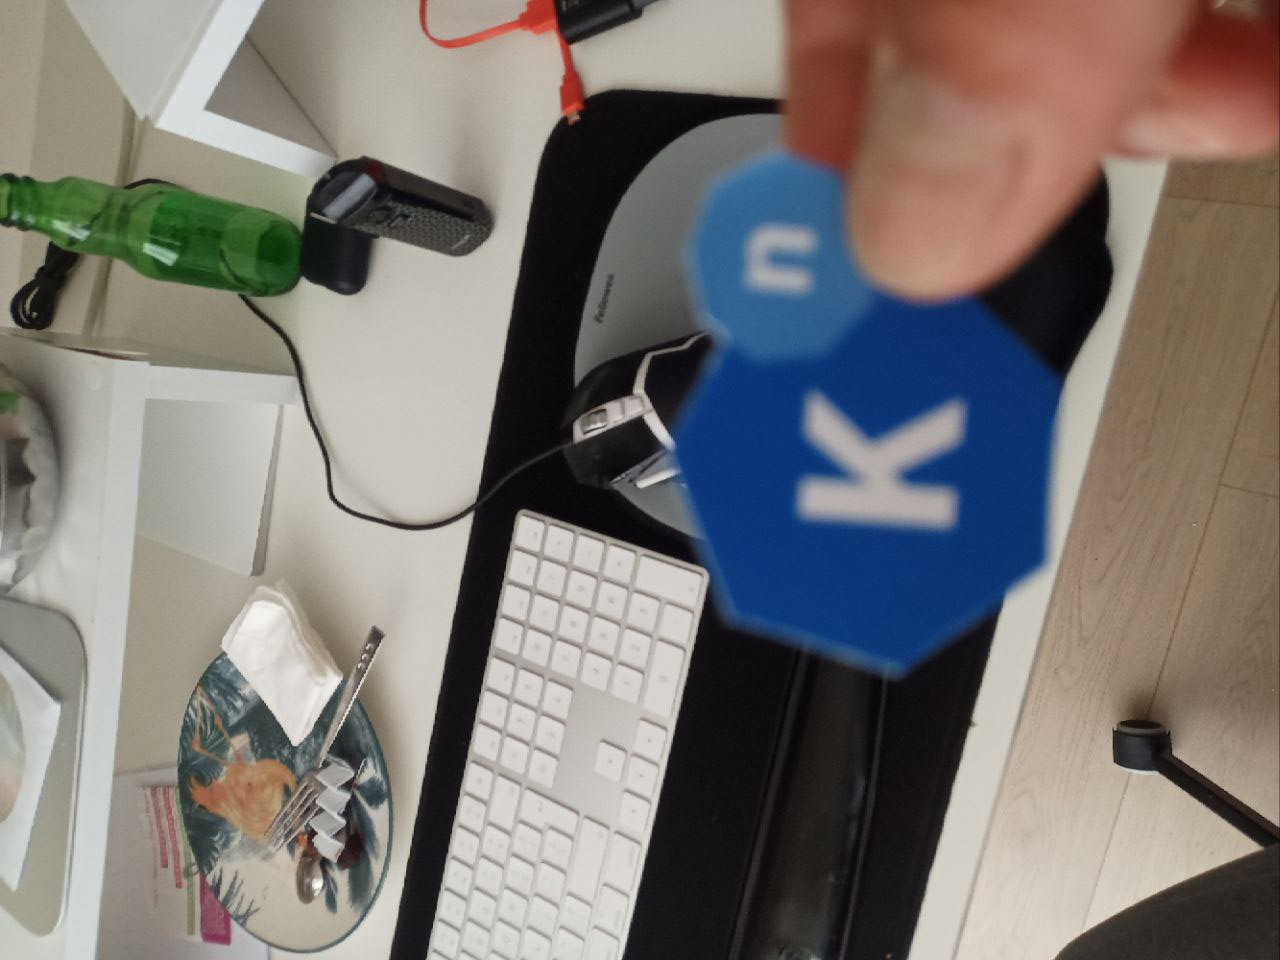knative: (671, 145, 1057, 683)
